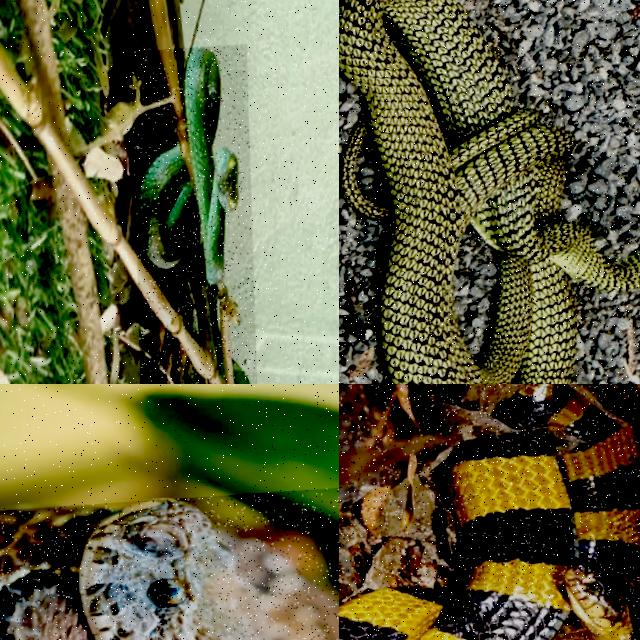Bungarus fasciatus: (339, 384, 639, 639)
Chrysopelea ornata: (339, 0, 639, 383)
Daboia siamensis: (0, 499, 338, 639)
Trimeresurus macrops: (134, 47, 237, 287)
